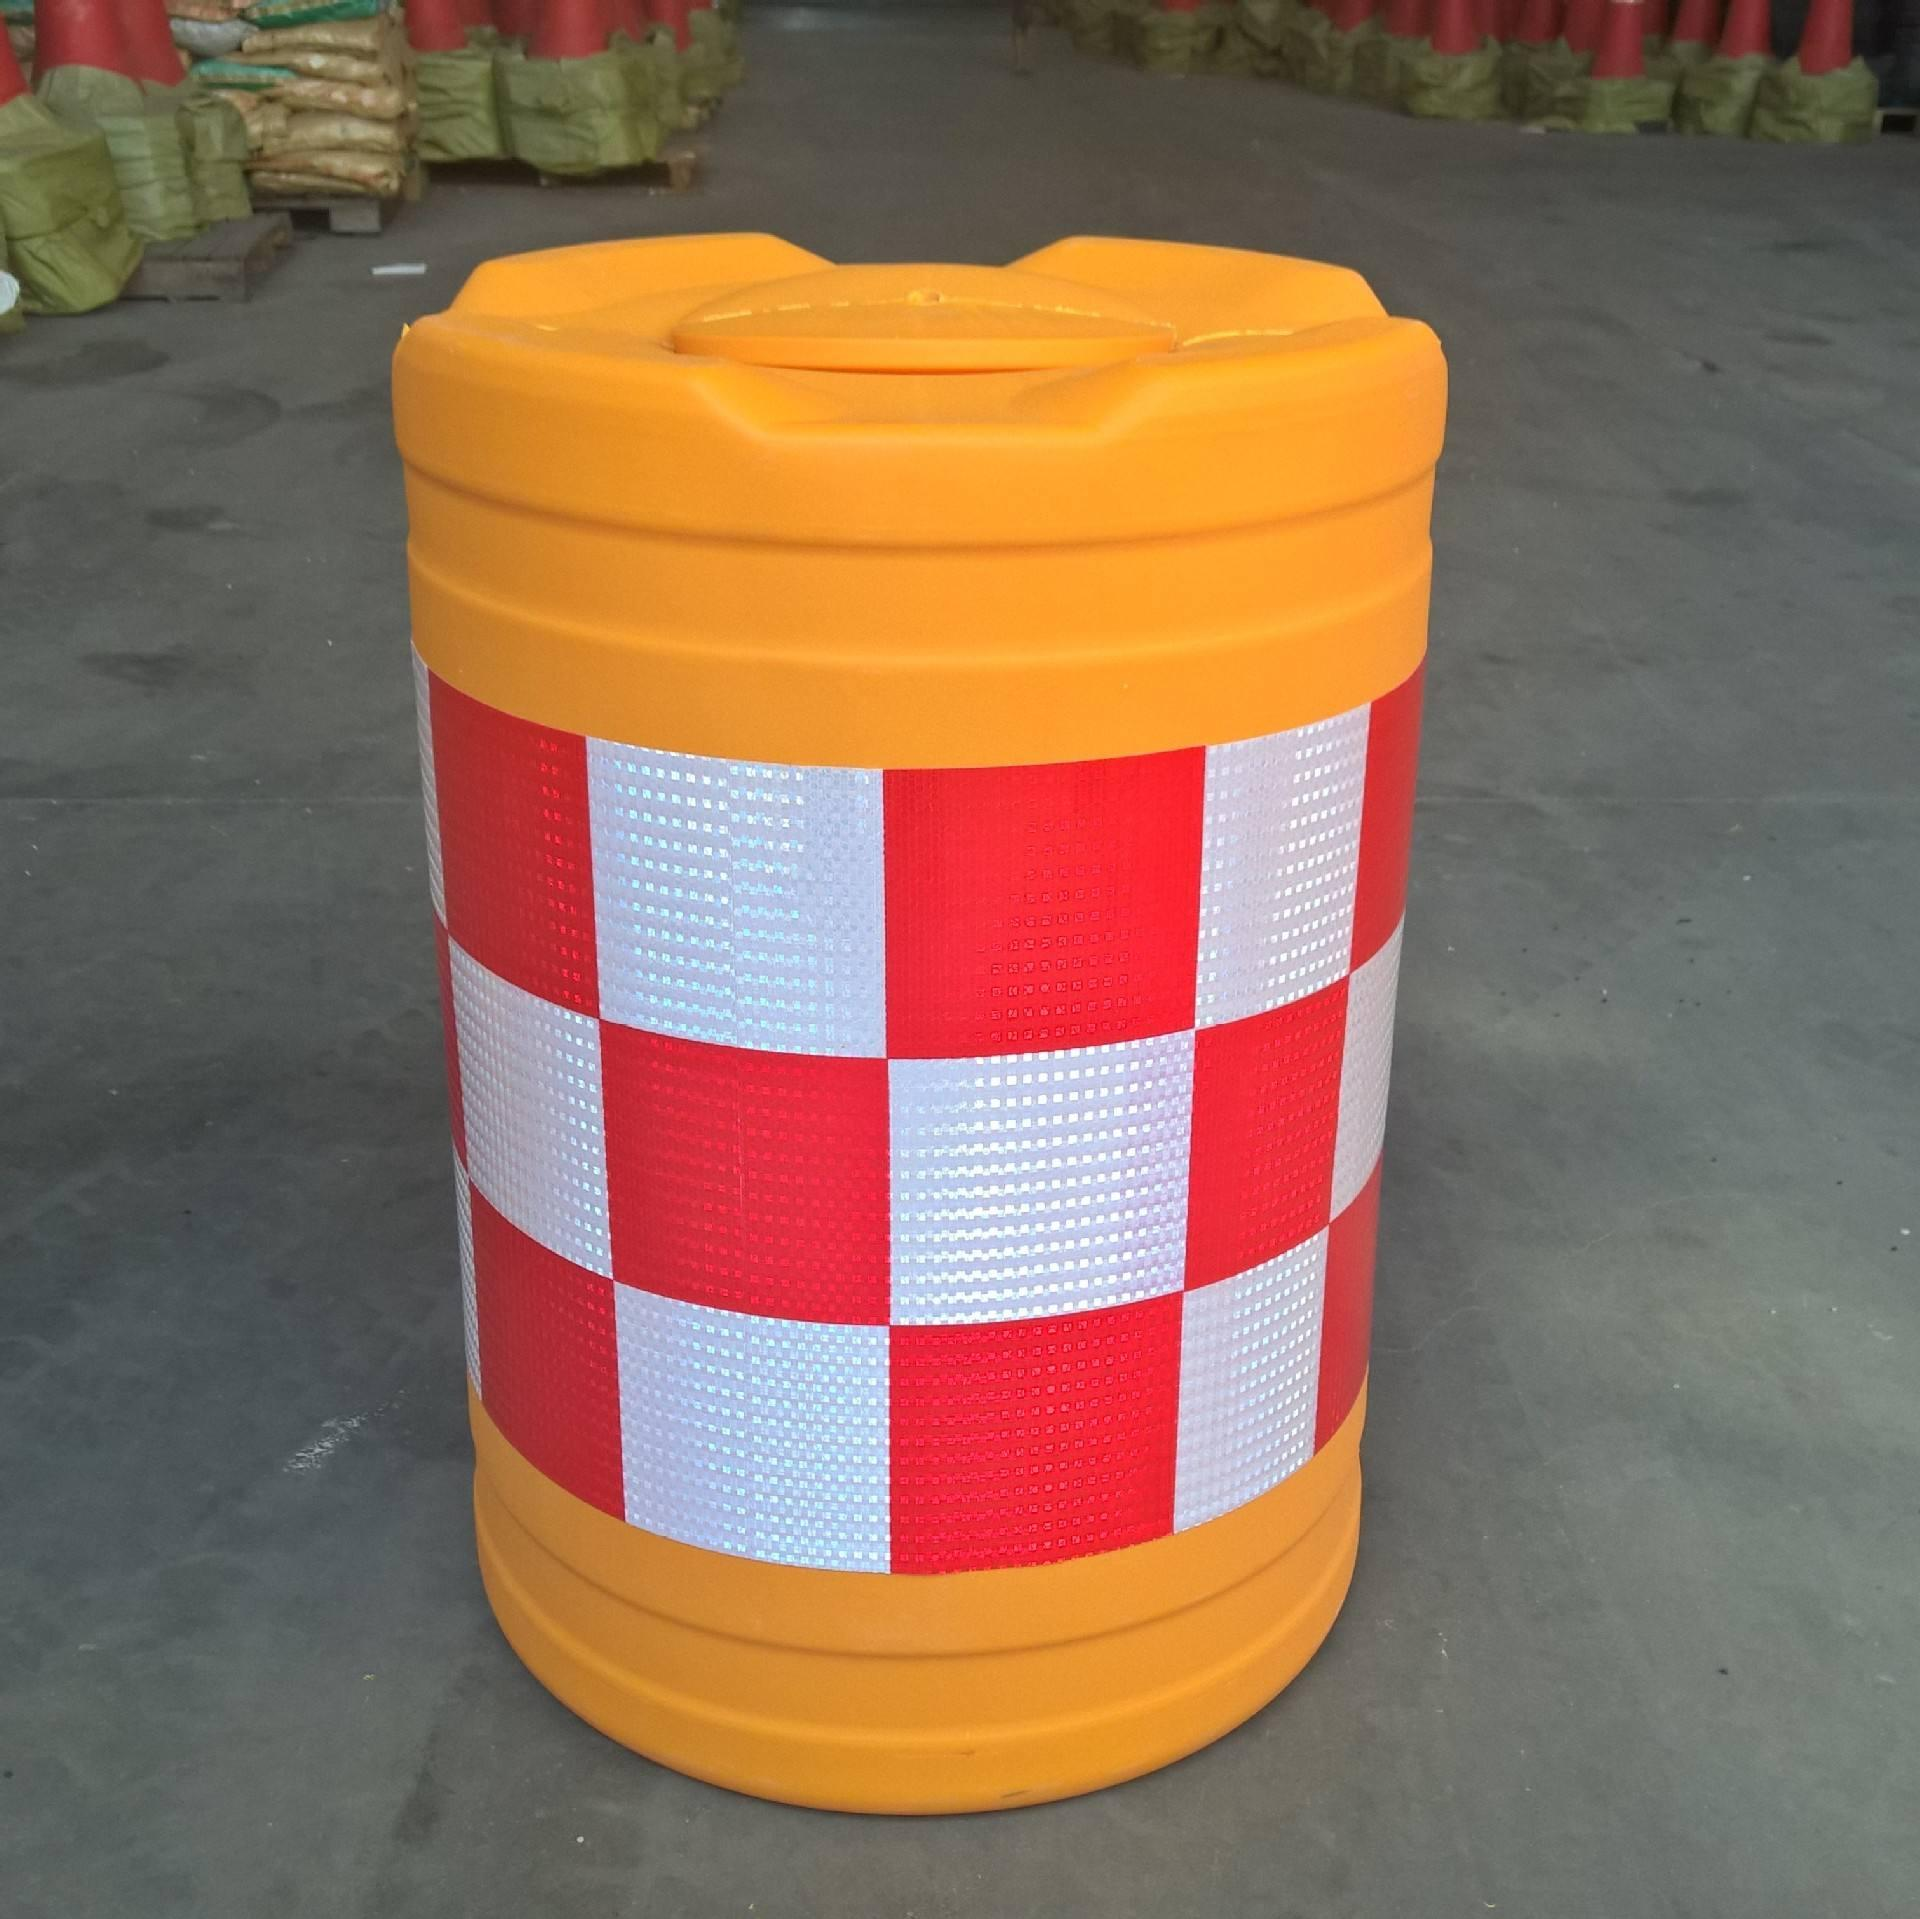sign: (355, 176, 1440, 1807)
